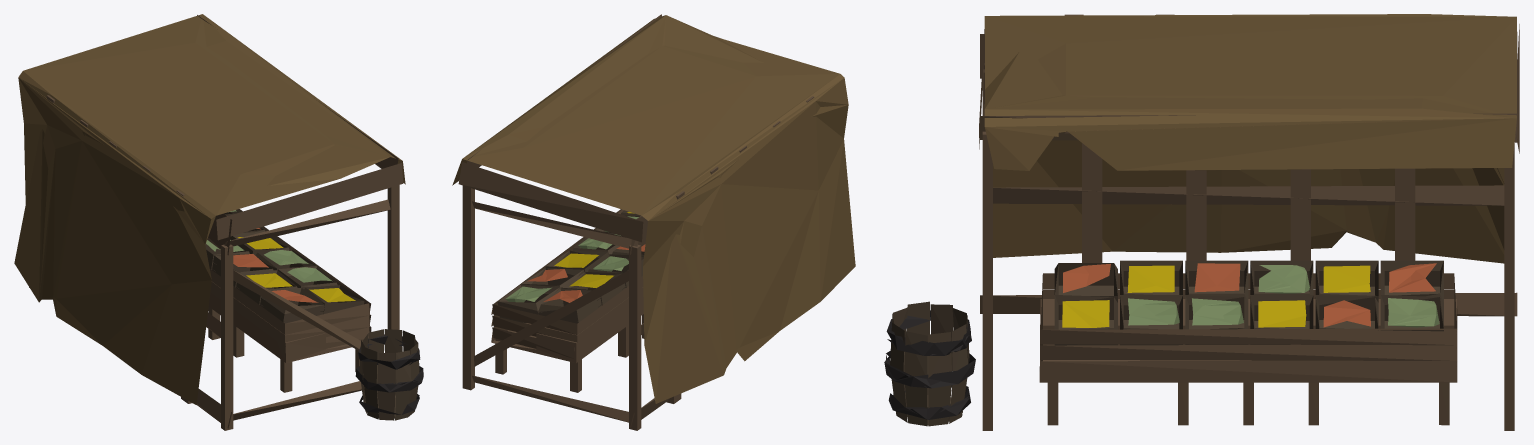
The model's file is market-stall.lod1.glb.
3 renders of one model, left to right at view 1: azimuth 30°, elevation 25°; view 2: azimuth 150°, elevation 25°; view 3: azimuth 270°, elevation 25°, orthographic. The views are drawn at different scales.
Parts seen in each view (by area): view 1: Stall_Fabric 22_0; view 2: Stall_Fabric 22_0; view 3: Stall_Fabric 22_0.
Boxes of the visible parts, x1=… form: Stall_Fabric 22_0: x1=14, y1=14, x2=423, y2=430; Stall_Fabric 22_0: x1=452, y1=14, x2=855, y2=430; Stall_Fabric 22_0: x1=884, y1=14, x2=1519, y2=430.
Size of the model in its own units: 2.74 by 2.69 by 4.89.
